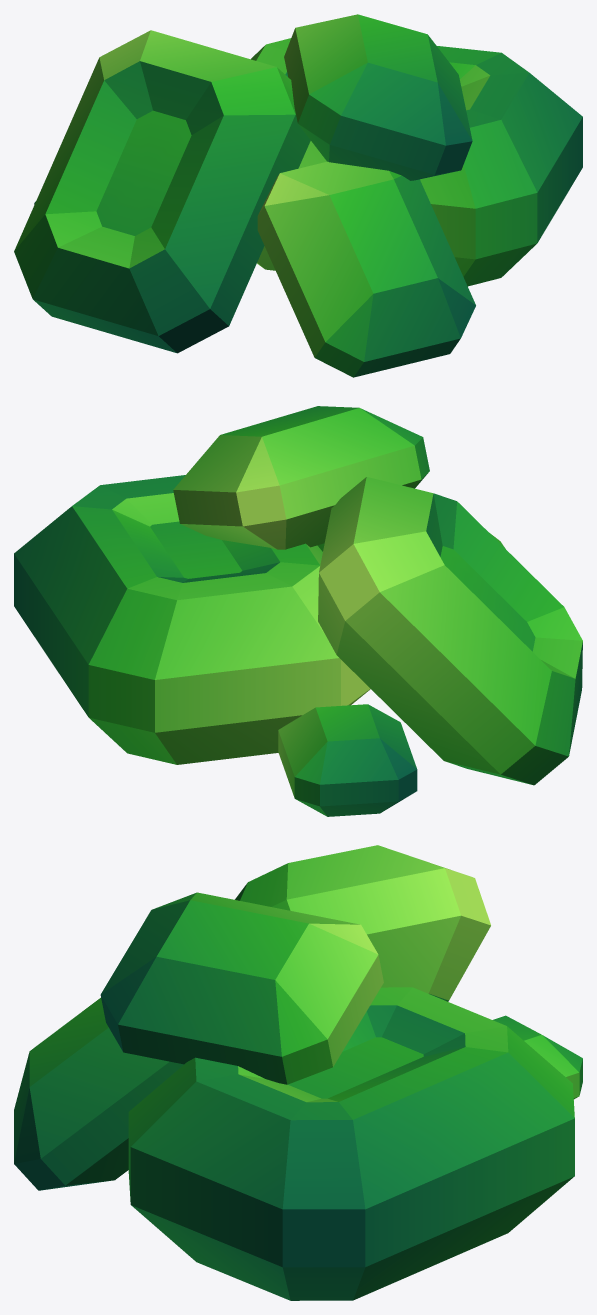
The model's file is Emerald_05.glb.
3 renders of one model, top to bottom at view 1: azimuth 30°, elevation 25°; view 2: azimuth 150°, elevation 25°; view 3: azimuth 270°, elevation 25°, orthographic. The views are drawn at different scales.
Visible parts, largest first — view 1: Emerald_05; view 2: Emerald_05; view 3: Emerald_05.
Part boxes in pixels (box(x1,y1,x2,y2)): Emerald_05: box(14, 14, 582, 377); Emerald_05: box(14, 406, 582, 816); Emerald_05: box(14, 845, 582, 1300).
Bounding box in the file's own units: 0.8336 × 0.3811 × 0.6868.
Materials: 1 (1 with a texture image).
